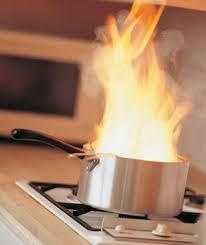fire: (78, 4, 196, 161)
